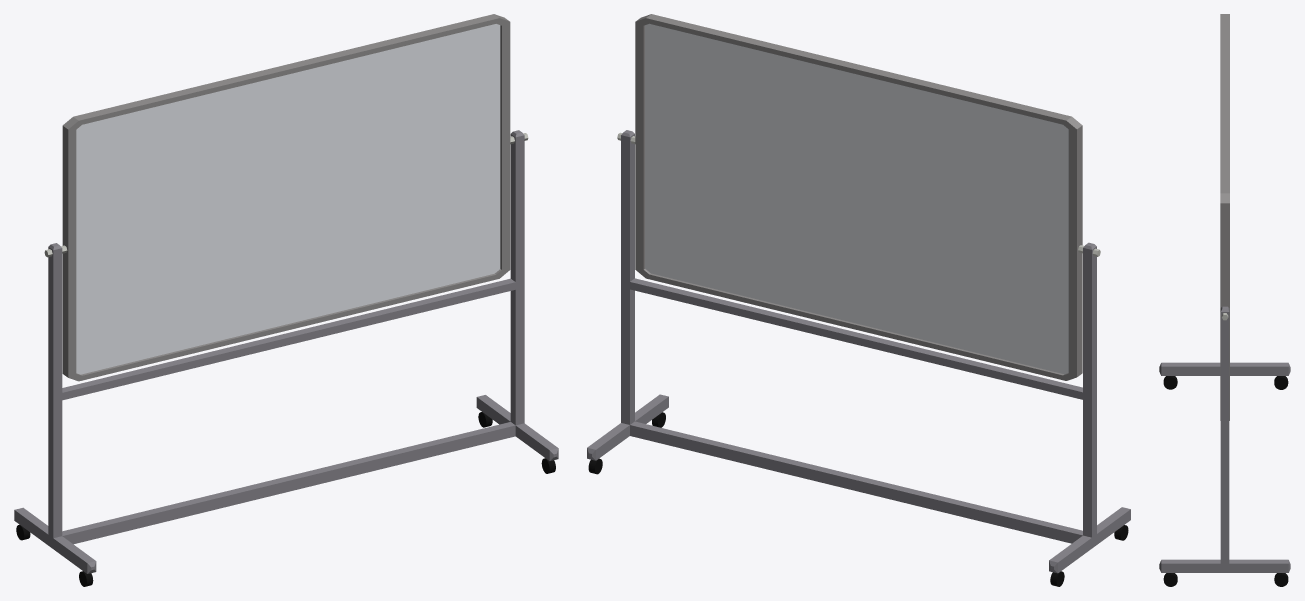
Rendered from Prop_Whiteboard.fbx.
3 views of the same model, side by side, from view 1: azimuth 30°, elevation 25°; view 2: azimuth 150°, elevation 25°; view 3: azimuth 270°, elevation 25° (orthographic). The views are drawn at different scales.
Visible parts, largest first — view 1: Prop_Whiteboard_Board, Prop_Whiteboard; view 2: Prop_Whiteboard_Board, Prop_Whiteboard; view 3: Prop_Whiteboard, Prop_Whiteboard_Board.
Part boxes in pixels (bbox=[...]): Prop_Whiteboard_Board: bbox=[62, 14, 510, 381]; Prop_Whiteboard: bbox=[14, 130, 558, 586]; Prop_Whiteboard_Board: bbox=[635, 14, 1082, 380]; Prop_Whiteboard: bbox=[587, 130, 1130, 586]; Prop_Whiteboard: bbox=[1159, 306, 1290, 586]; Prop_Whiteboard_Board: bbox=[1220, 14, 1229, 420].
Bounding box in the file's own units: 222 × 194 × 60.25.
